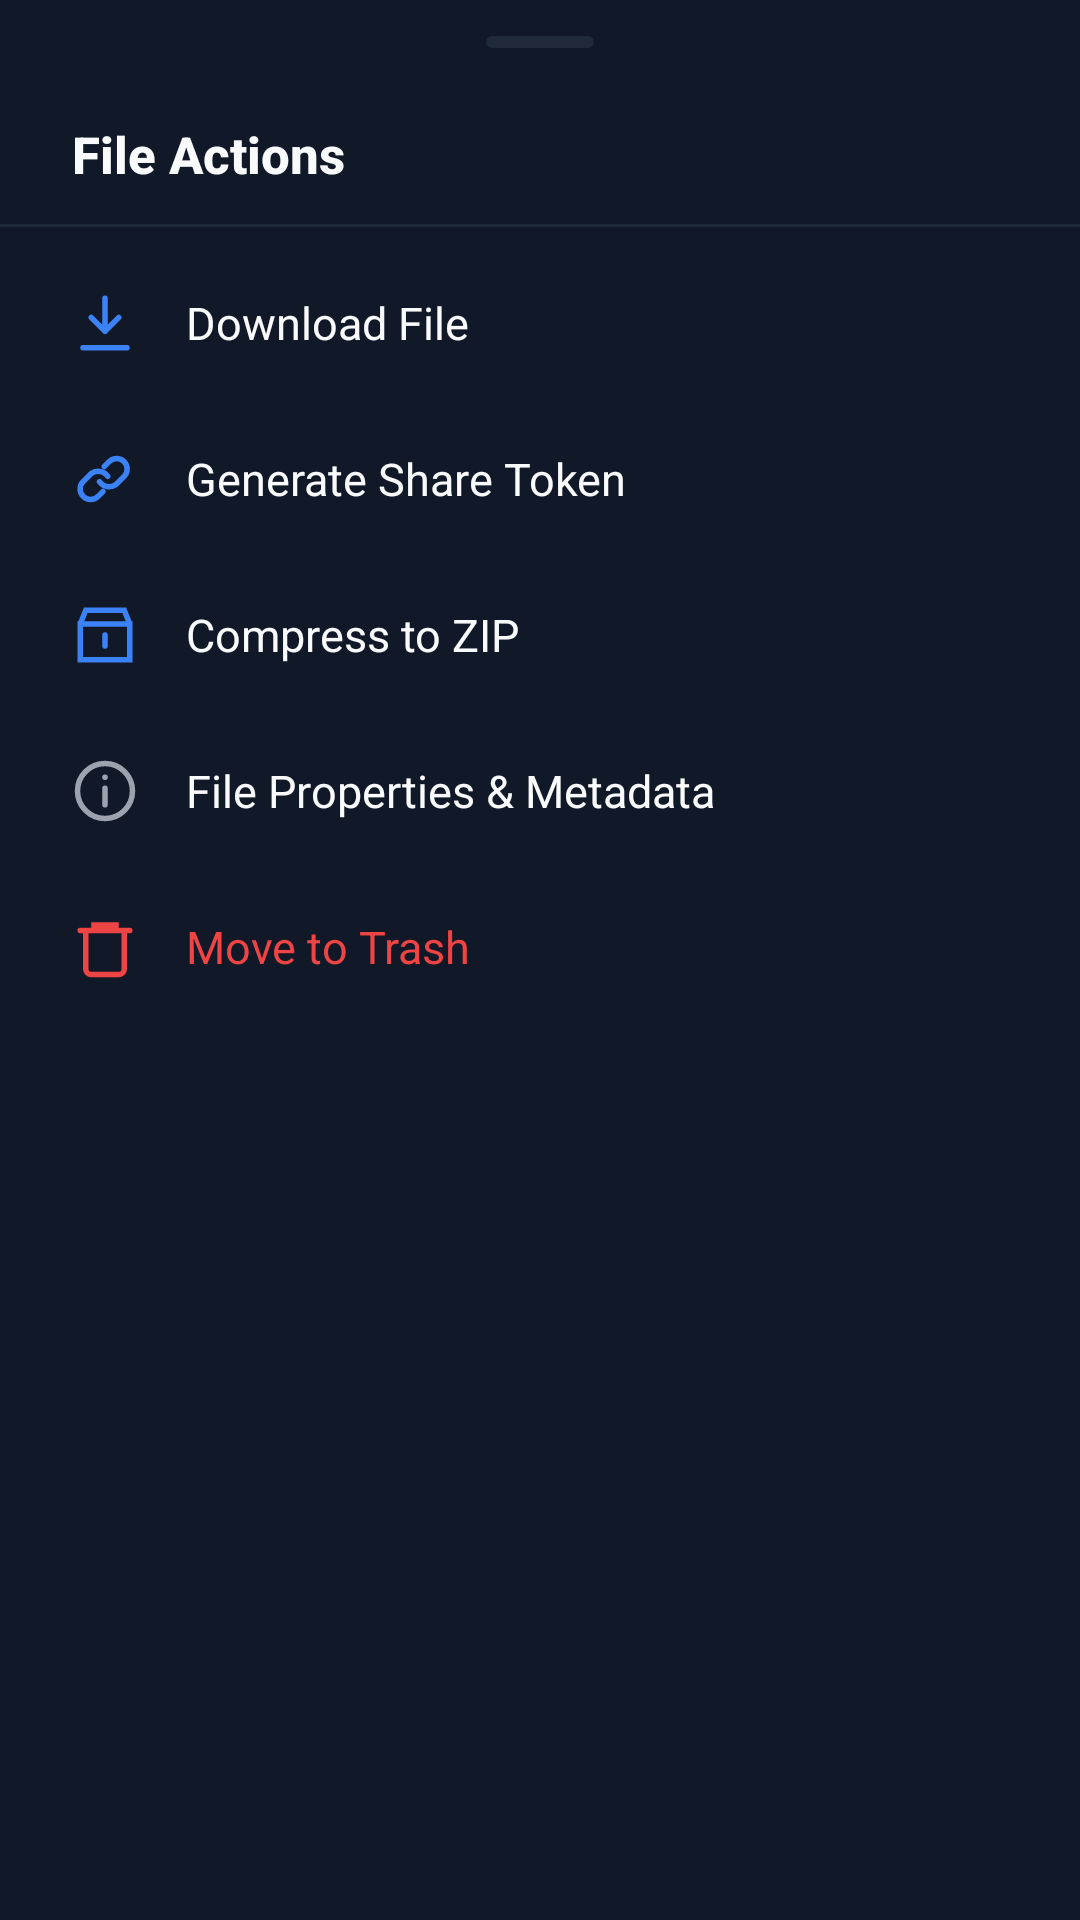

Icon bounding boxes for this 1080×1920 phone screenshot, format box=[x1, y1, x2, y2]:
archive: box=[77, 607, 133, 663]
delete: box=[77, 922, 133, 978]
download round: box=[80, 295, 130, 351]
info: box=[74, 760, 136, 822]
link: box=[77, 455, 130, 503]
